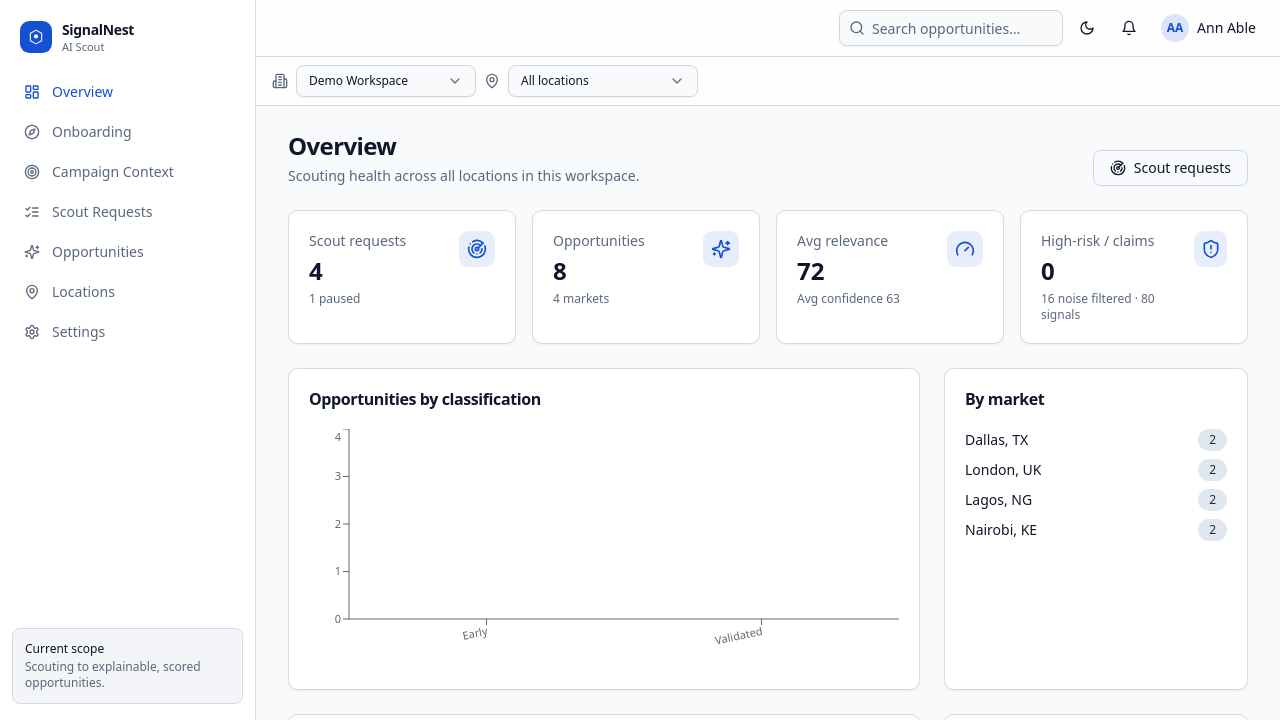
Test: a refused session ends only the tab that used it (P6-AUTH-4 follow-up) › ignores a late refusal of a session this tab has since replaced (in-flight race)
Meanwhile this tab signs out and signs in again.
Click the button with aria-label "account menu" at x=1208, y=28, box left=1153, top=10, right=1264, bottom=46
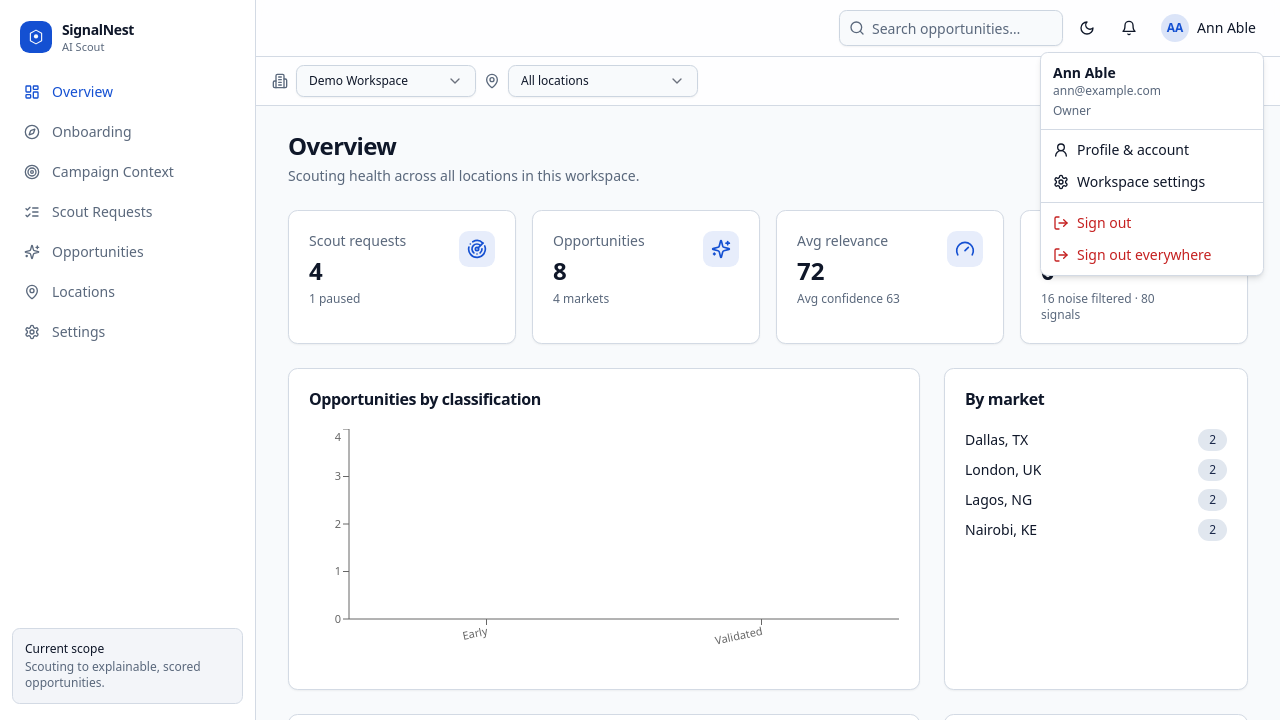
Click the menu item "Sign out" at x=1092, y=222, box left=1053, top=213, right=1131, bottom=232
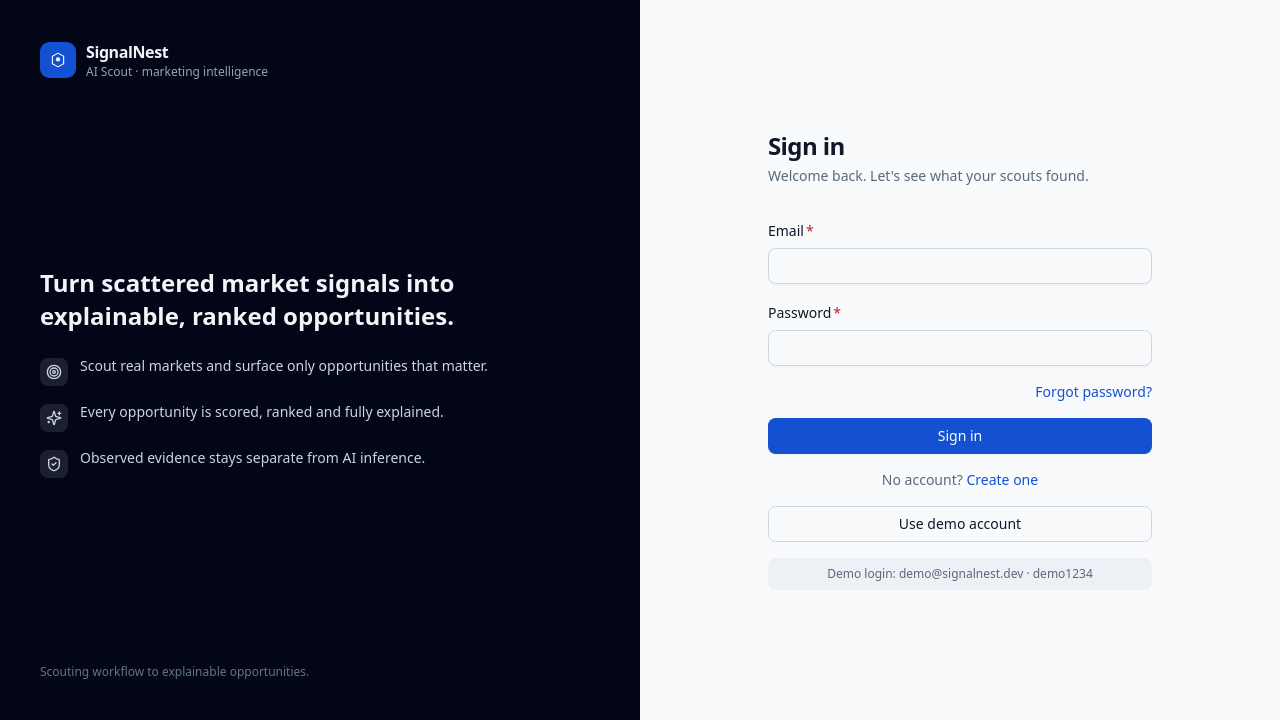
Result: the button "Sign in" is shown at left=768, top=418, right=1152, bottom=454
Type "ann@example.com" into the field labelled "Email*" at x=960, y=266, box left=768, top=248, right=1152, bottom=284
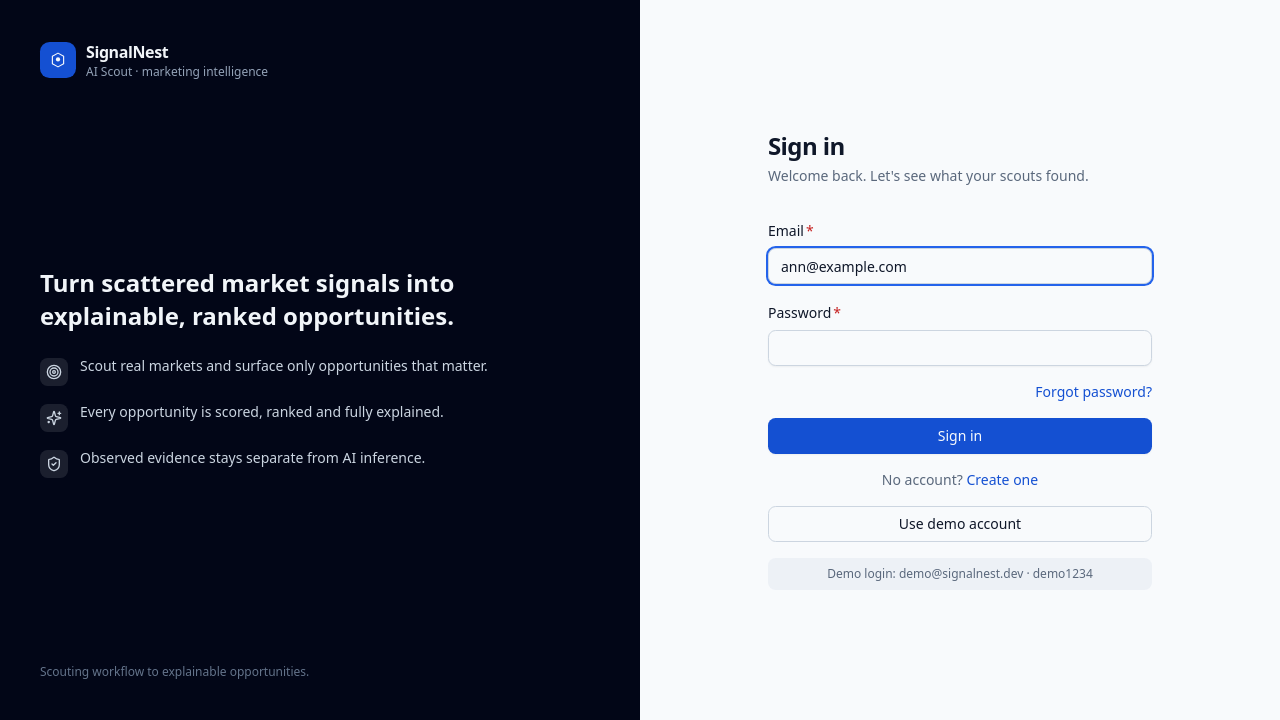
Type "ann password 1" into the password field labelled "Password*" at x=960, y=348, box left=768, top=330, right=1152, bottom=366
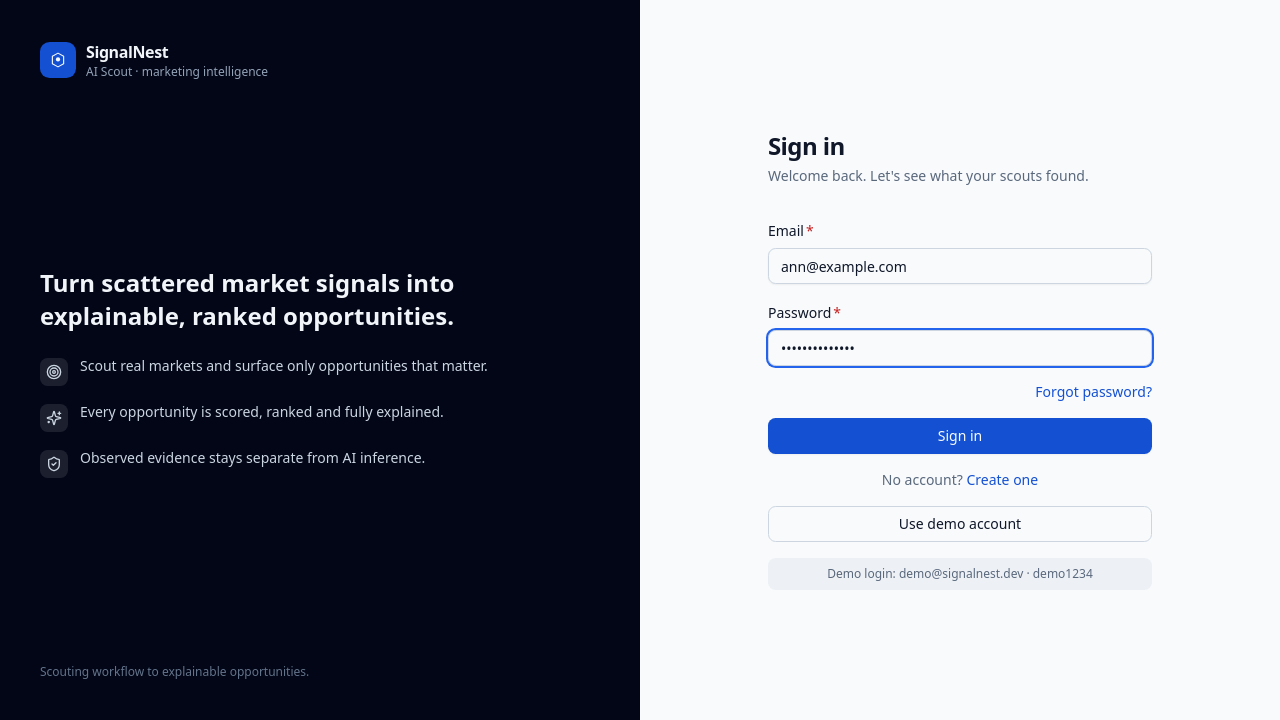
Click the button "Sign in" at x=960, y=436, box left=768, top=418, right=1152, bottom=454
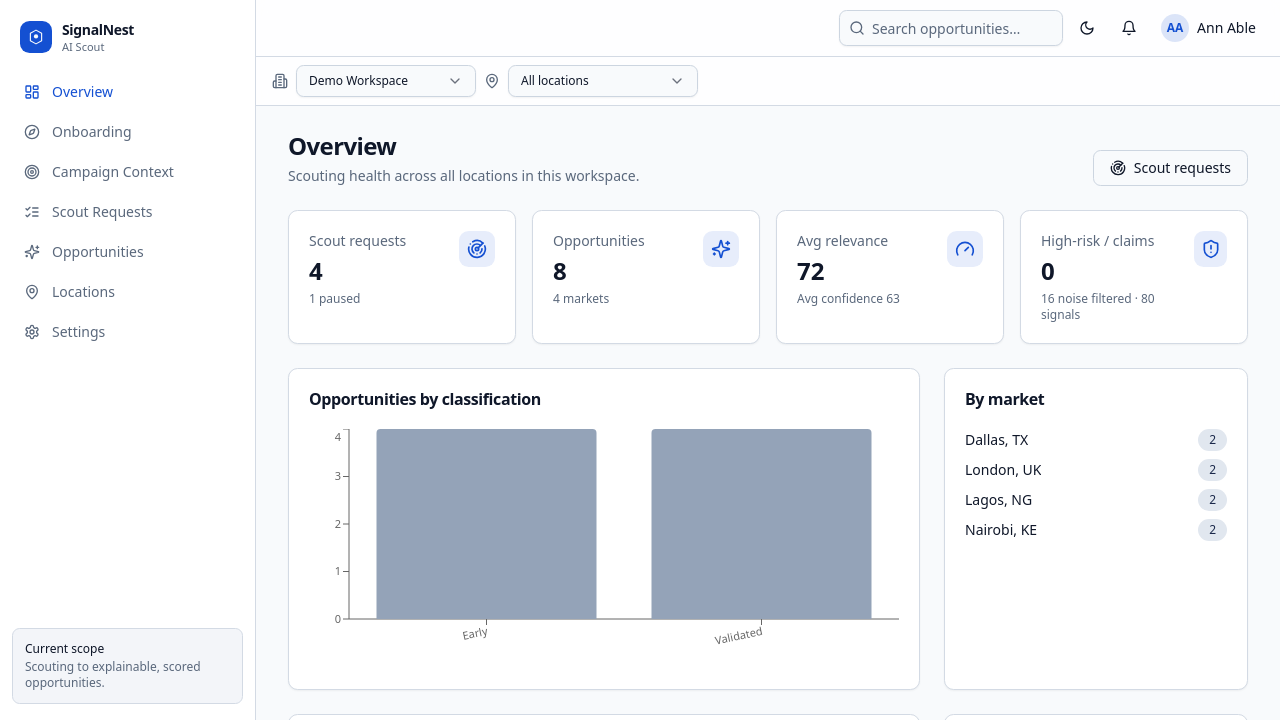
Result: the button with aria-label "account menu" is shown at left=1153, top=10, right=1264, bottom=46
